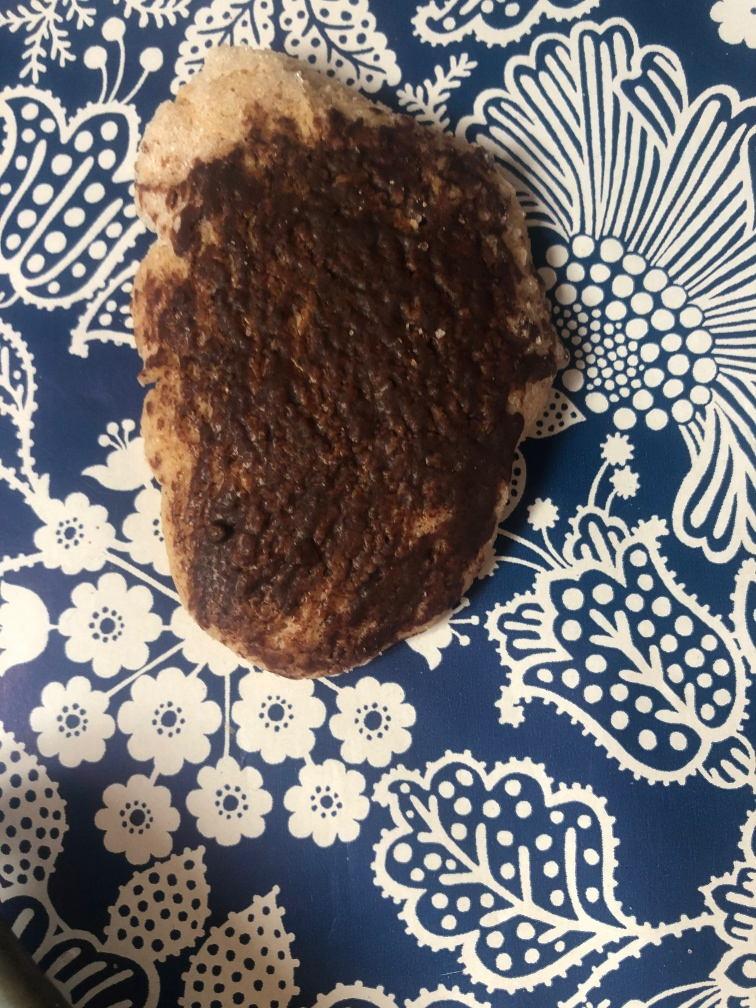weird #1: (132, 44, 532, 679)
